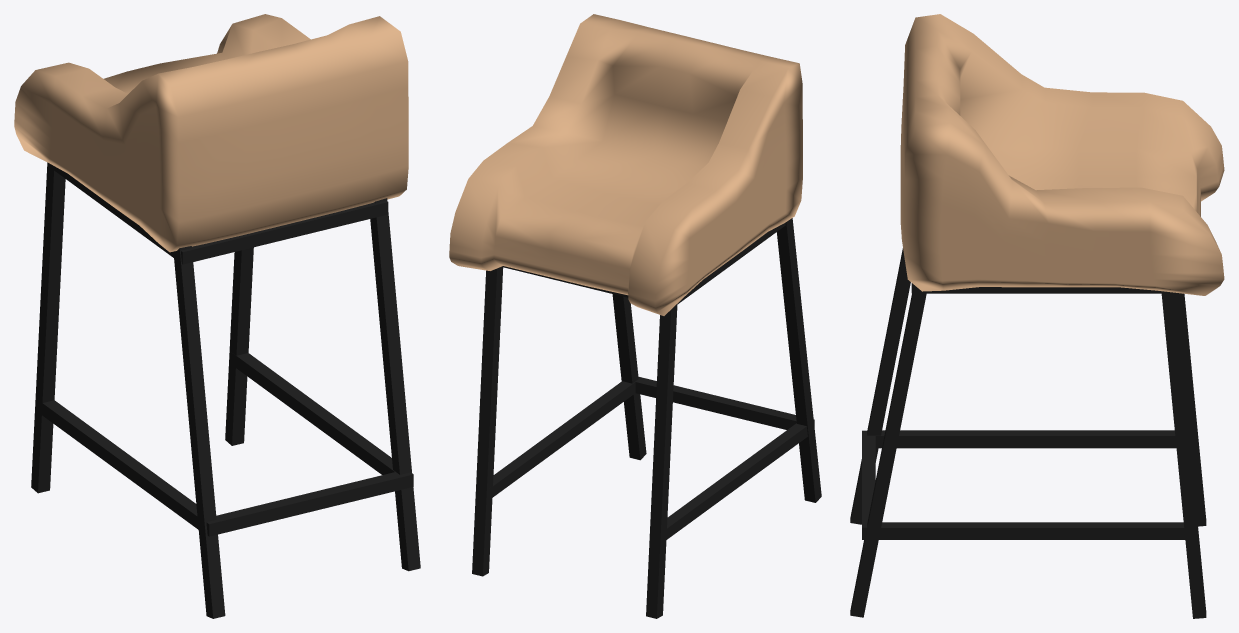
The model's file is BarStool.fbx.
3 renders of one model, left to right at view 1: azimuth 30°, elevation 25°; view 2: azimuth 150°, elevation 25°; view 3: azimuth 270°, elevation 25°, orthographic. The views are drawn at different scales.
Visible parts, largest first — view 1: top center sup; view 2: top center sup; view 3: top center sup.
Part boxes in pixels (x1=…): top center sup: x1=14, y1=14, x2=420, y2=618; top center sup: x1=449, y1=14, x2=821, y2=618; top center sup: x1=850, y1=14, x2=1224, y2=618.
Bounding box in the file's own units: 110 × 235 × 158.
